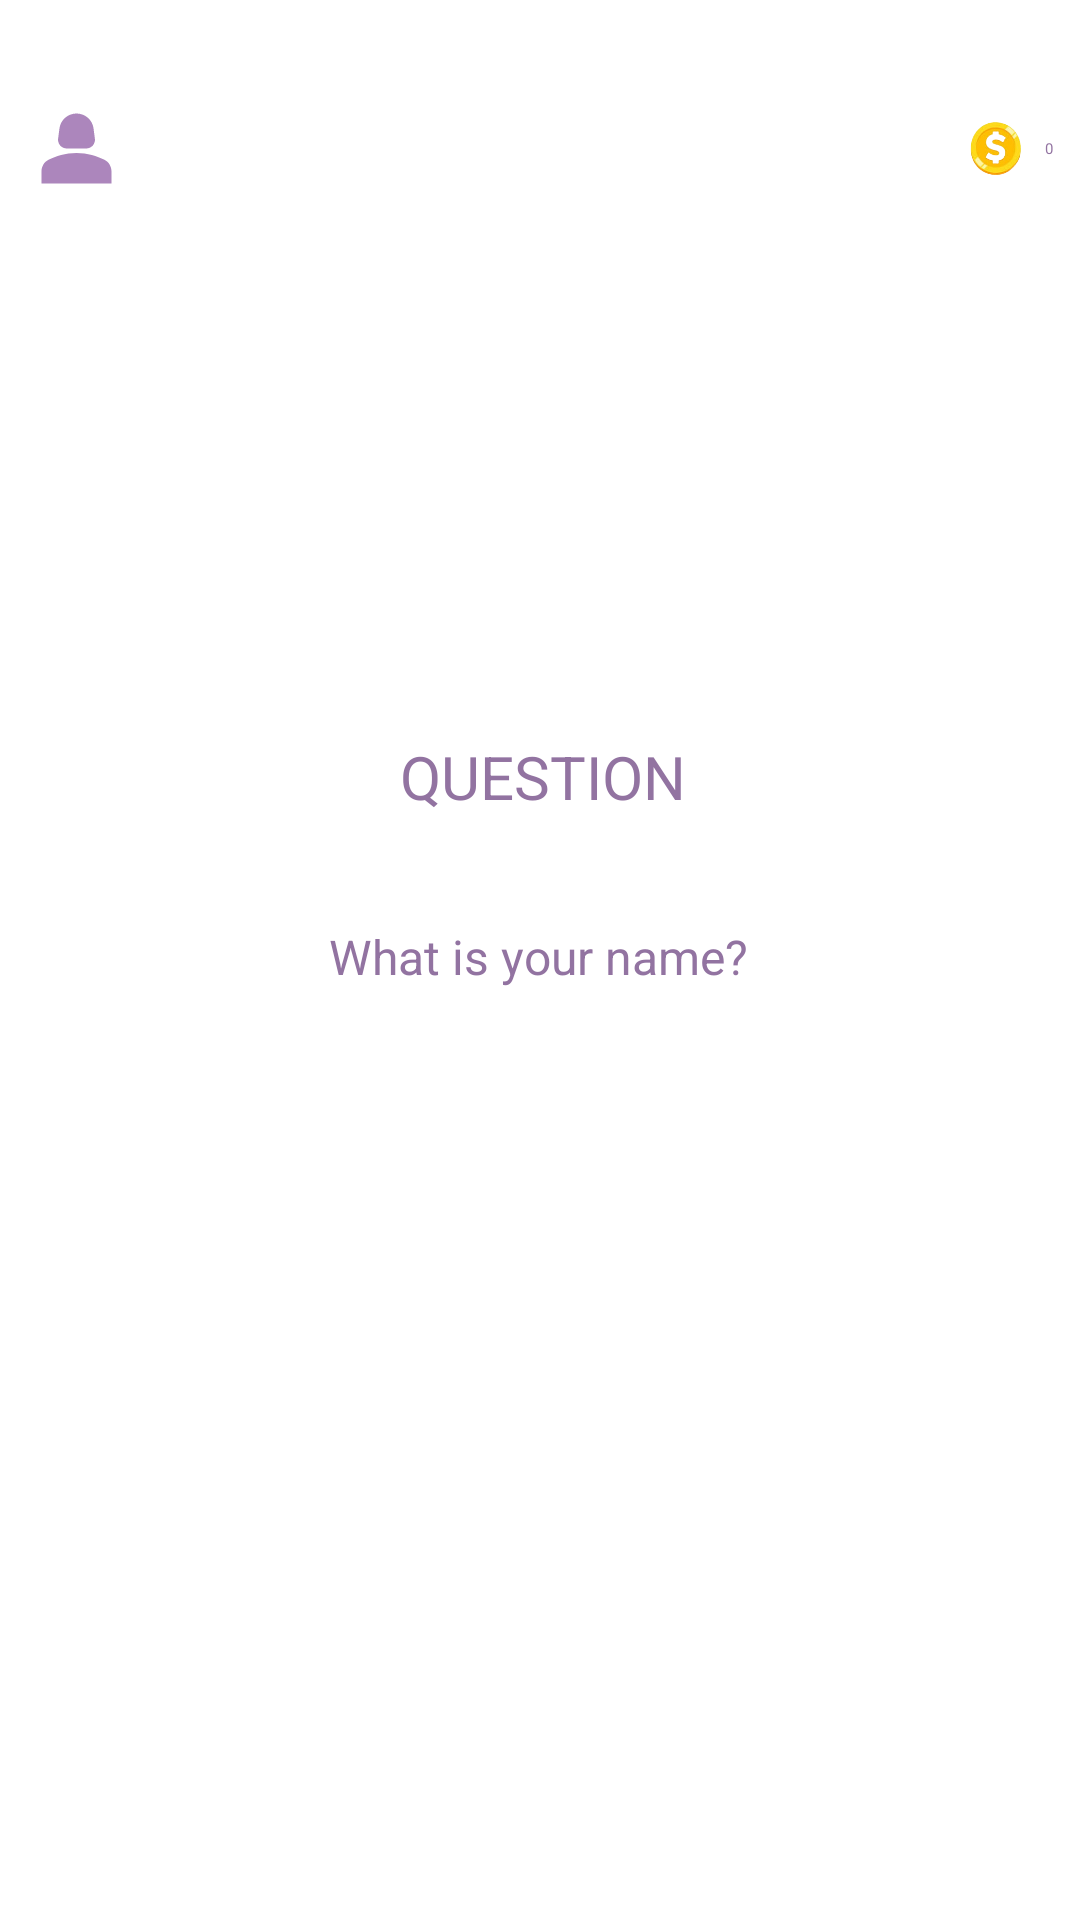

Named icons in this screenshot (1080×1920) and their centers, (x=x, y=y):
coin: (x=996, y=148)
person: (x=76, y=148)
